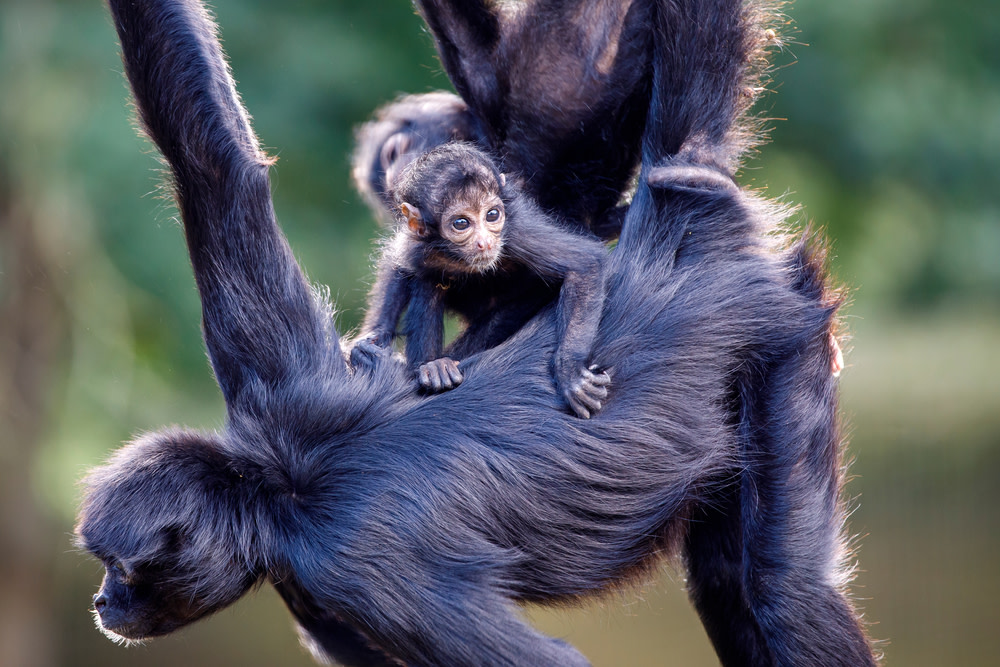monkey_body: (245, 196, 848, 667), (367, 232, 624, 406)
monkey_face: (391, 146, 536, 289)
